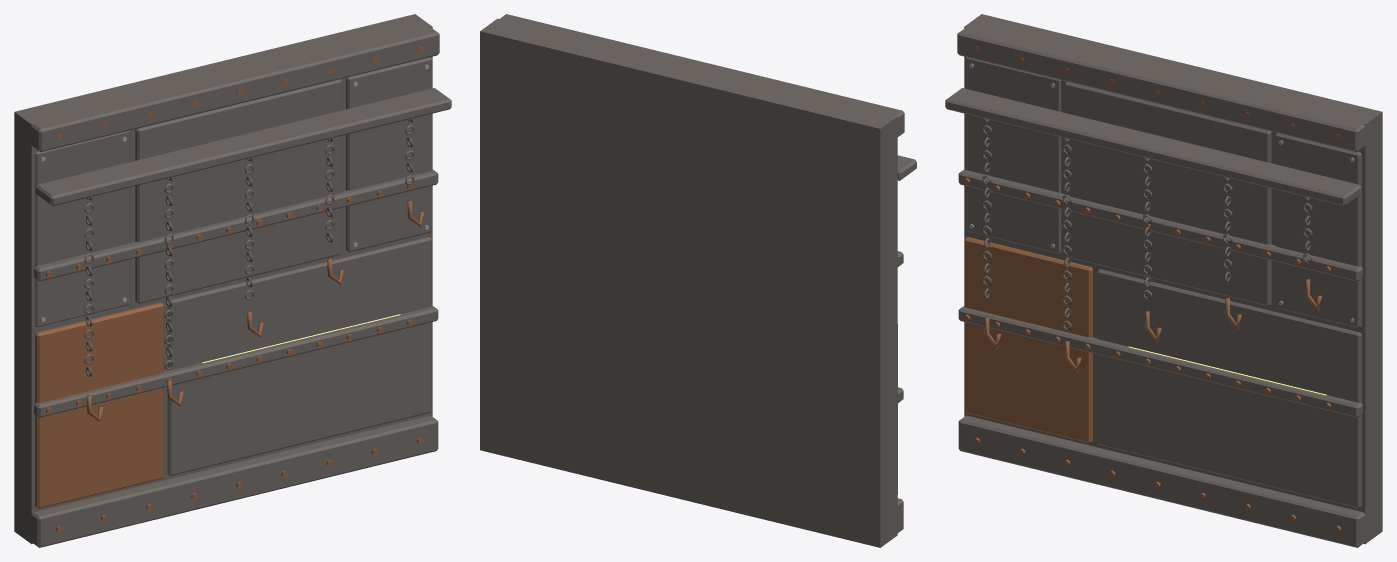
Rendered from wall_wk_chains.glb.
3 renders of one model, left to right at view 1: azimuth 30°, elevation 25°; view 2: azimuth 150°, elevation 25°; view 3: azimuth 330°, elevation 25°, orthographic.
Visible parts, largest first — view 1: wall_wk_chains; view 2: wall_wk_chains; view 3: wall_wk_chains.
Boxes of the visible parts, <box> form: wall_wk_chains: <box>14,14,451,547</box>; wall_wk_chains: <box>480,14,916,547</box>; wall_wk_chains: <box>945,14,1382,547</box>.
Bounding box in the file's own units: 4 × 4 × 0.65.
